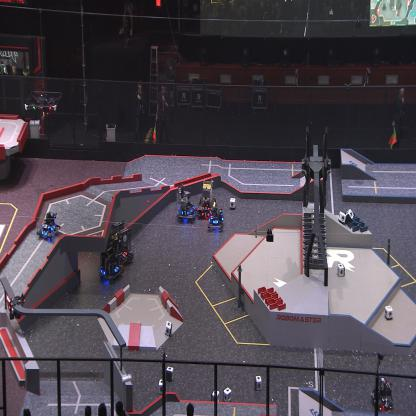car: (97, 233, 124, 282), (109, 219, 136, 266), (370, 376, 394, 412), (176, 182, 197, 222), (35, 208, 61, 240), (196, 176, 216, 217), (207, 200, 224, 232)
